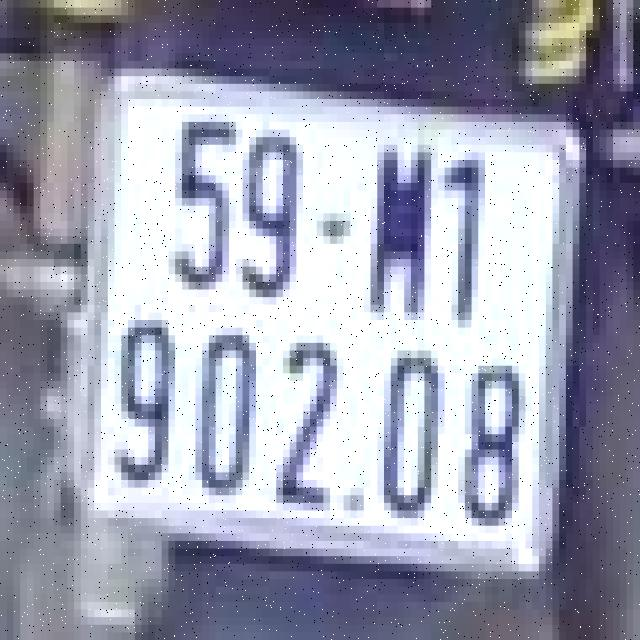0: (188, 328, 270, 510), (377, 351, 445, 518)
1: (444, 144, 498, 328)
2: (273, 335, 347, 518)
5: (178, 107, 232, 297)
8: (465, 354, 539, 530)
9: (104, 308, 192, 506), (236, 118, 303, 309)
M: (357, 130, 438, 320)
